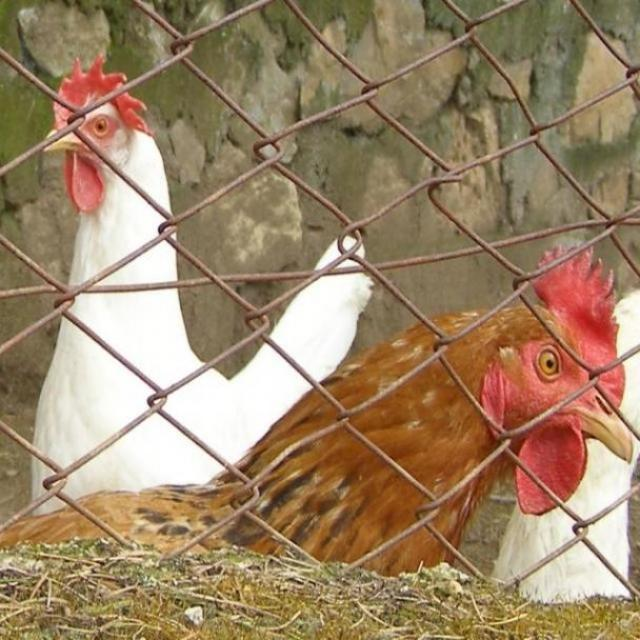Chicken: (156, 257, 636, 594), (31, 52, 370, 520)
